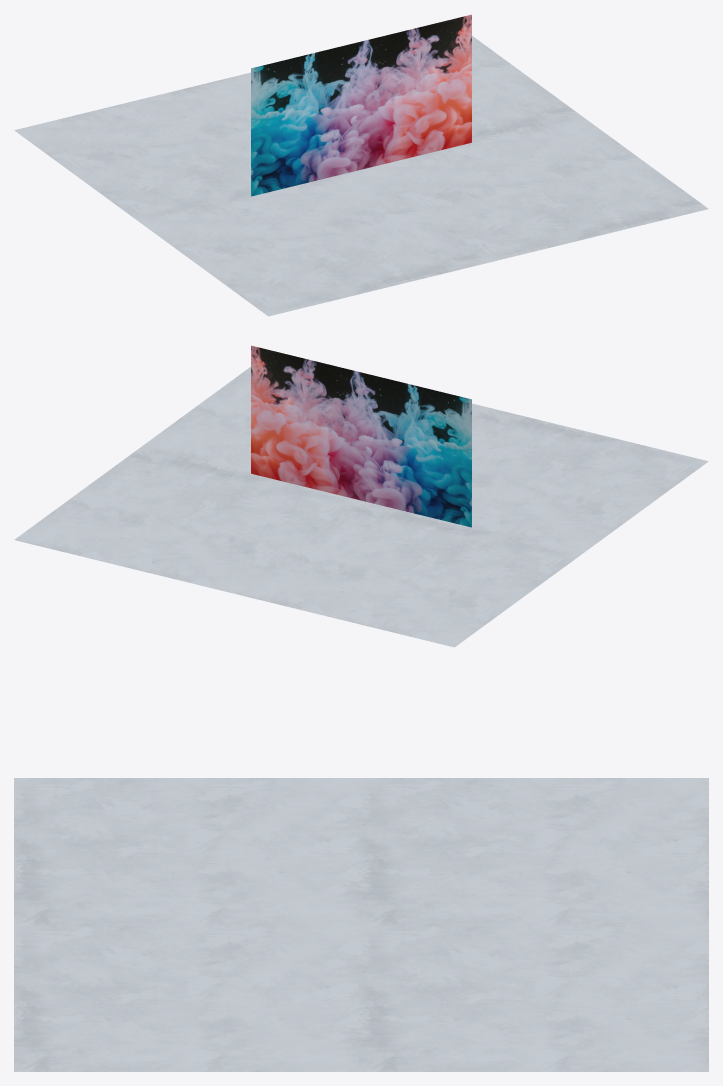
3 renders of one model, top to bottom at view 1: azimuth 30°, elevation 25°; view 2: azimuth 150°, elevation 25°; view 3: azimuth 270°, elevation 25°, orthographic. The views are drawn at different scales.
Parts seen in each view (by area): view 1: GROUND, SCREEN; view 2: GROUND, SCREEN; view 3: GROUND.
Part boxes in pixels (x1=…): GROUND: x1=14, y1=36, x2=708, y2=316; SCREEN: x1=251, y1=14, x2=471, y2=196; GROUND: x1=14, y1=367, x2=708, y2=647; SCREEN: x1=251, y1=345, x2=471, y2=527; GROUND: x1=14, y1=778, x2=708, y2=1071.
Bounding box in the file's own units: 6.37 × 1.8 × 6.37.
2 materials, 2 textured.
